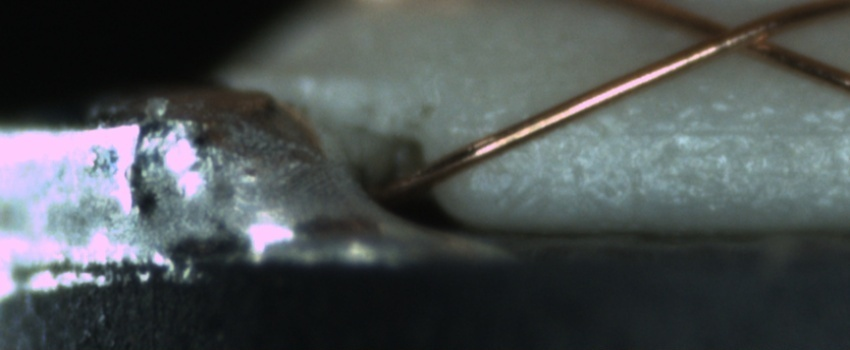CL: (675, 5, 800, 63)
DL: (565, 98, 849, 162)
